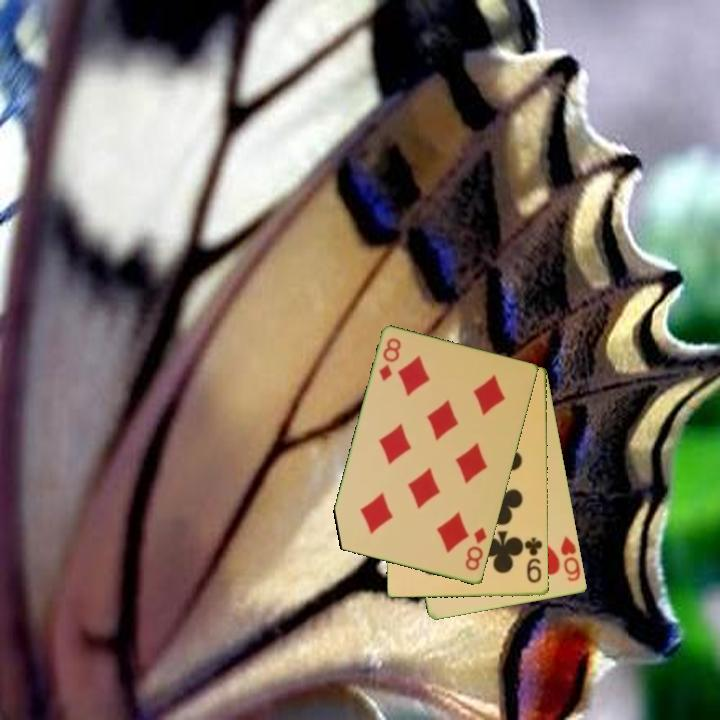6h: (557, 533, 584, 585)
8d: (375, 334, 404, 384), (462, 524, 490, 574)
9c: (522, 534, 545, 586)
